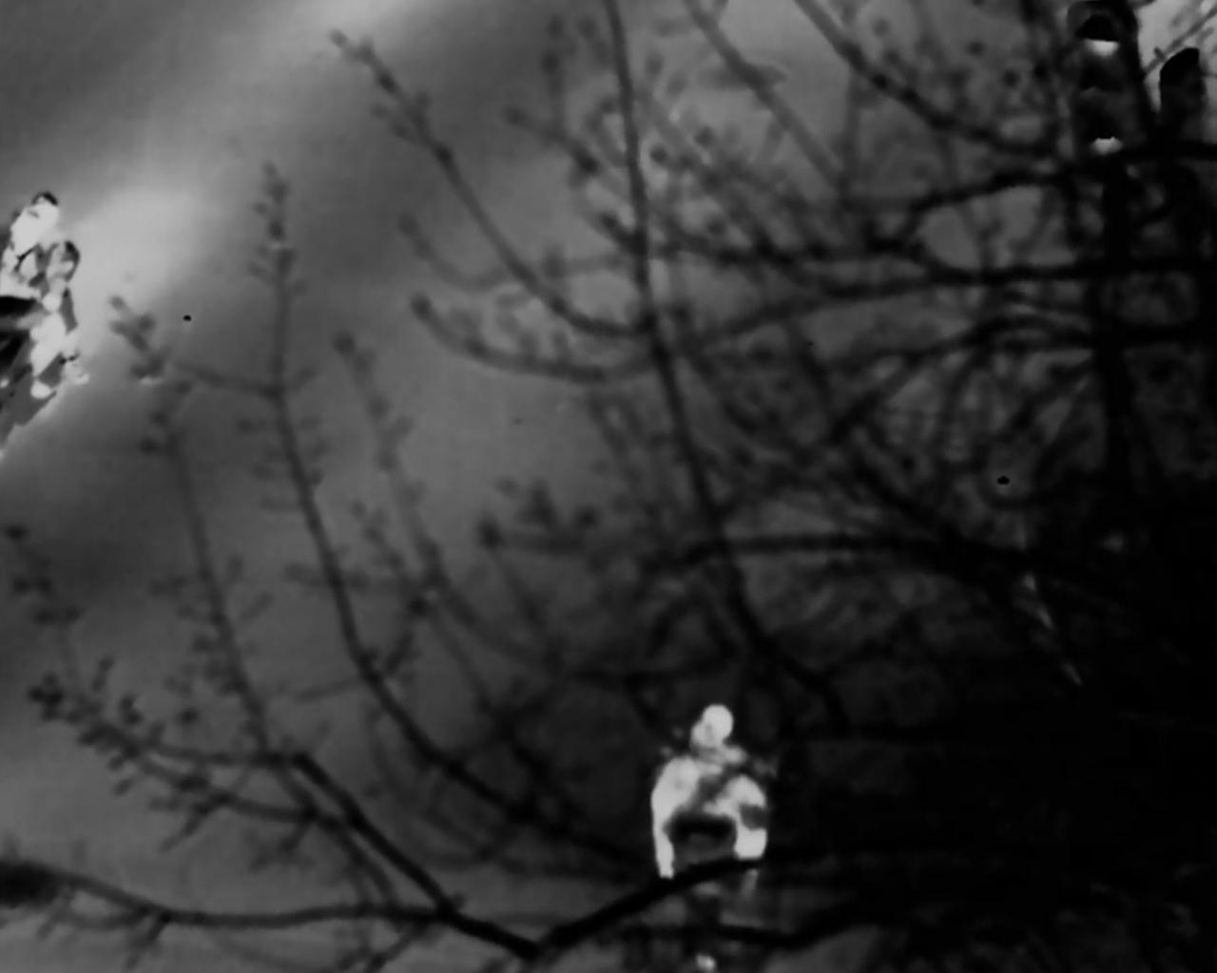person: (655, 704, 769, 887), (6, 186, 80, 395)
